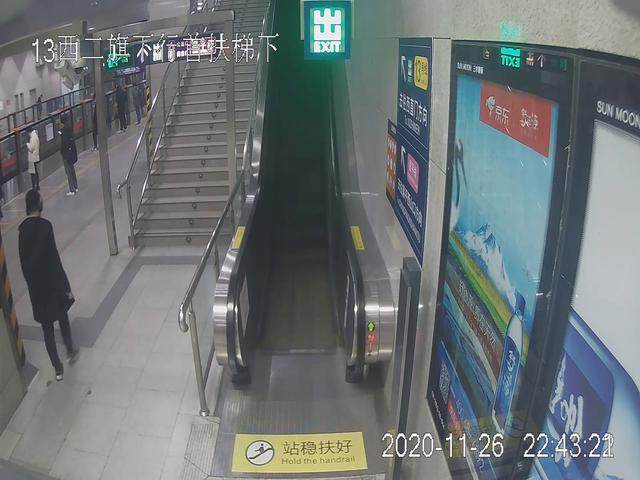person: (18, 190, 79, 379), (57, 114, 87, 196), (23, 127, 46, 191), (114, 82, 127, 140)
